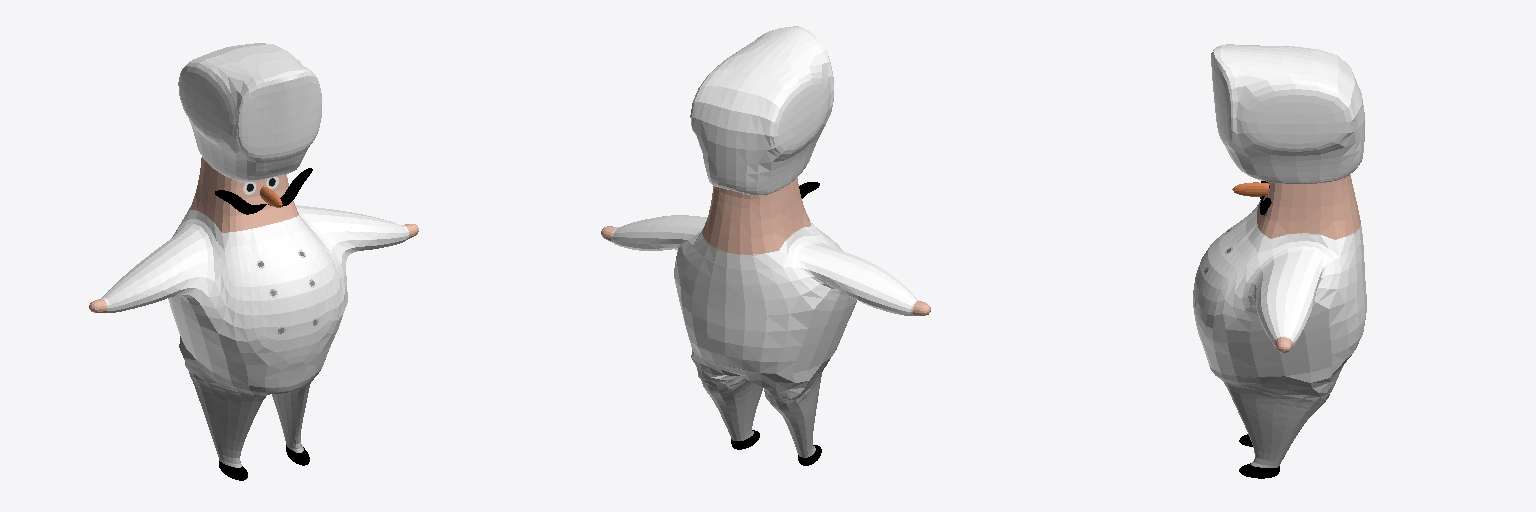
3 views of the same model, side by side, from view 1: azimuth 30°, elevation 25°; view 2: azimuth 150°, elevation 25°; view 3: azimuth 270°, elevation 25° (orthographic).
Parts seen in each view (by area): view 1: chef-mesh; view 2: chef-mesh; view 3: chef-mesh.
Part boxes in pixels (bbox=[...]): chef-mesh: bbox=[89, 43, 418, 480]; chef-mesh: bbox=[601, 26, 930, 465]; chef-mesh: bbox=[1193, 44, 1366, 478].
Bounding box in the file's own units: 1.88 × 2.25 × 0.862.
Materials: 1 (1 with a texture image).